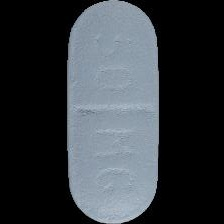54868-5639: (0, 0, 224, 224)
